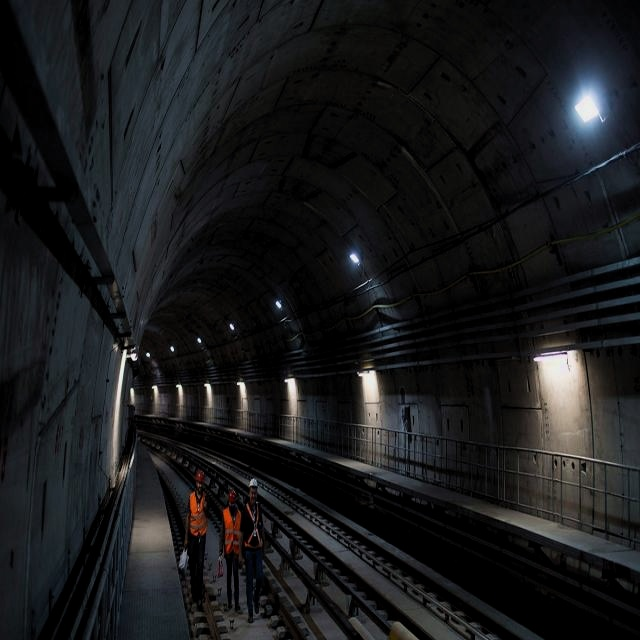Con_Casco: (249, 477, 259, 500)
Con_Chaleco: (188, 491, 208, 539), (224, 508, 240, 552)
